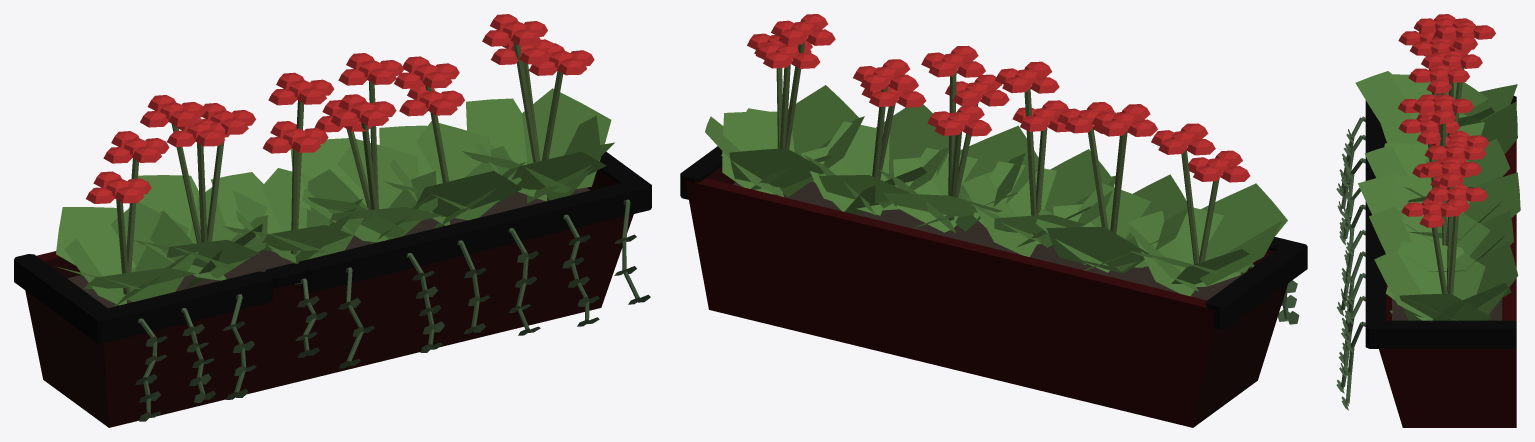
File: SilverbrookPropSillPlanter.fbx
3 renders of one model, left to right at view 1: azimuth 30°, elevation 25°; view 2: azimuth 150°, elevation 25°; view 3: azimuth 270°, elevation 25°, orthographic. The views are drawn at different scales.
Visible parts, largest first — view 1: SM_SBSillPlanter_Trough, SM_SBSillPlanter_Leaves, SM_SBSillPlanter_Blooms, SM_SBSillPlanter_Stems, SM_SBSillPlanter_Thyme, SM_SBSillPlanter_Soil; view 2: SM_SBSillPlanter_Trough, SM_SBSillPlanter_Leaves, SM_SBSillPlanter_Blooms, SM_SBSillPlanter_Stems, SM_SBSillPlanter_Soil; view 3: SM_SBSillPlanter_Leaves, SM_SBSillPlanter_Trough, SM_SBSillPlanter_Blooms, SM_SBSillPlanter_Thyme, SM_SBSillPlanter_Stems, SM_SBSillPlanter_Soil.
Part boxes in pixels (x1,y1,x2,y2): SM_SBSillPlanter_Trough: (14,151,651,427); SM_SBSillPlanter_Leaves: (56,88,650,421); SM_SBSillPlanter_Blooms: (86,14,594,203); SM_SBSillPlanter_Stems: (116,42,563,294); SM_SBSillPlanter_Thyme: (138,199,639,413); SM_SBSillPlanter_Soil: (67,187,590,308); SM_SBSillPlanter_Trough: (680,146,1307,427); SM_SBSillPlanter_Leaves: (705,85,1299,324); SM_SBSillPlanter_Blooms: (747,14,1250,182); SM_SBSillPlanter_Stems: (776,41,1219,264); SM_SBSillPlanter_Soil: (733,181,1248,300); SM_SBSillPlanter_Leaves: (1336,71,1520,410); SM_SBSillPlanter_Trough: (1365,96,1516,427); SM_SBSillPlanter_Blooms: (1398,14,1495,227); SM_SBSillPlanter_Thyme: (1341,116,1392,403); SM_SBSillPlanter_Stems: (1428,67,1464,294); SM_SBSillPlanter_Soil: (1392,298,1502,320).
Bounding box in the file's own units: 93.37 × 44.29 × 30.77.
